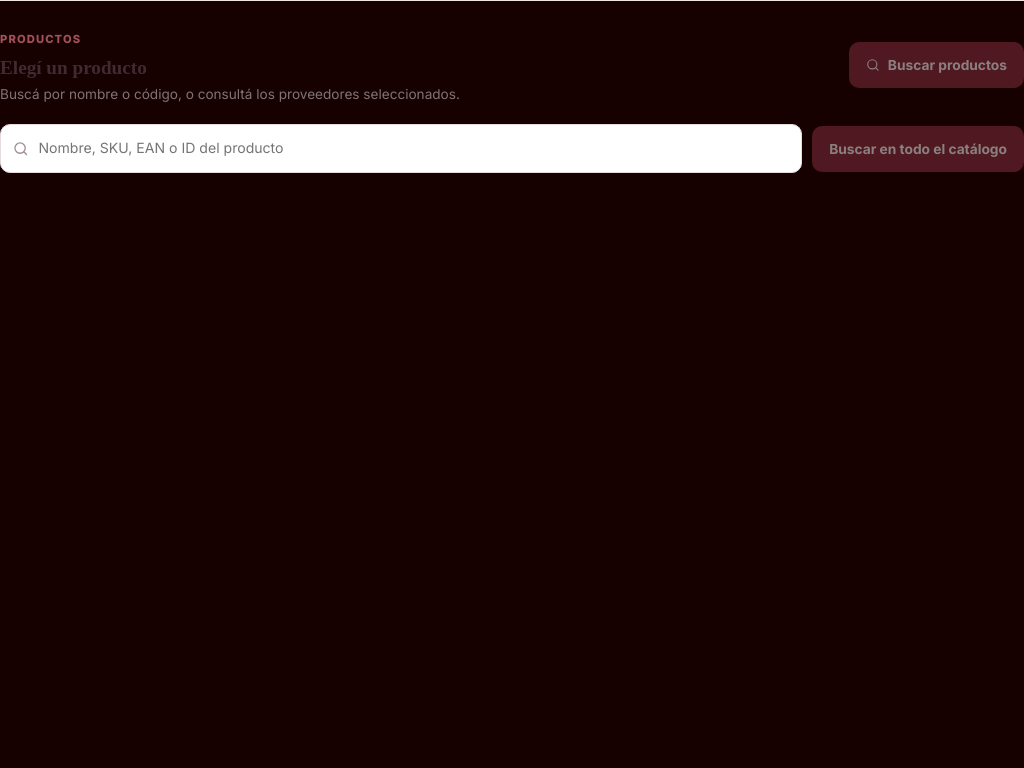
busca en el catálogo sin seleccionar proveedores y permite editar el resultado
The width and height of the screenshot is (1024, 768).
Type "EAN123" into the search field named "Buscar en todo el catálogo".
click(414, 149); type("EAN123")  # box [38,125,789,172]
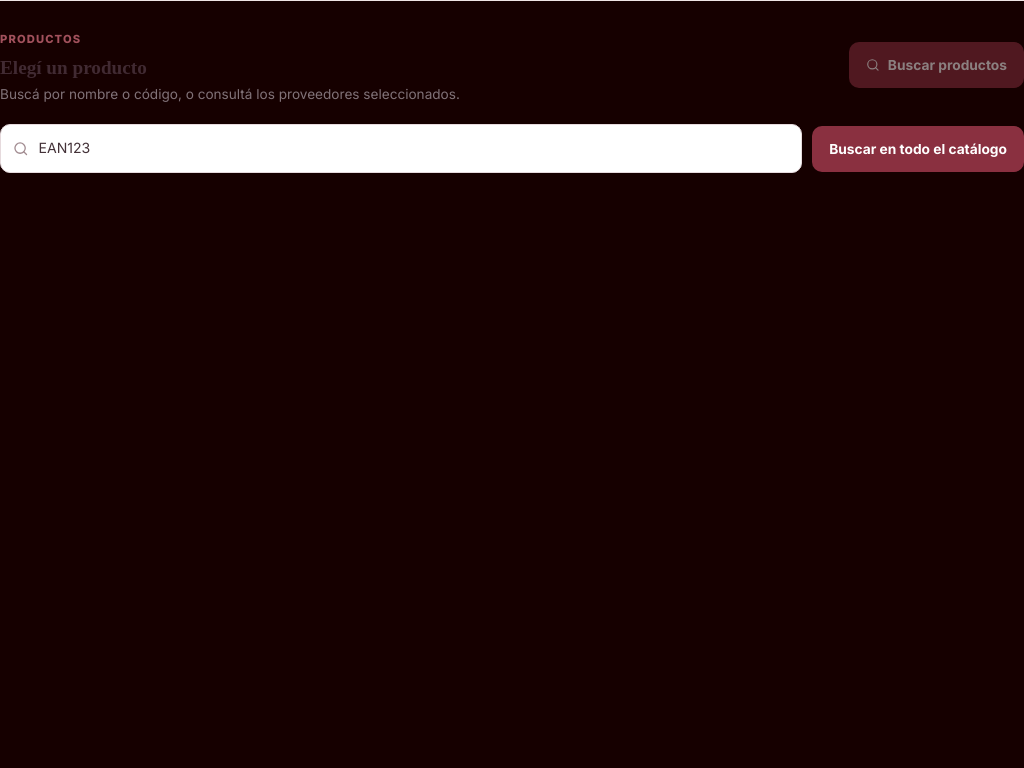
Click the button "Buscar en todo el catálogo".
click(918, 148)  # box [812,126,1023,172]
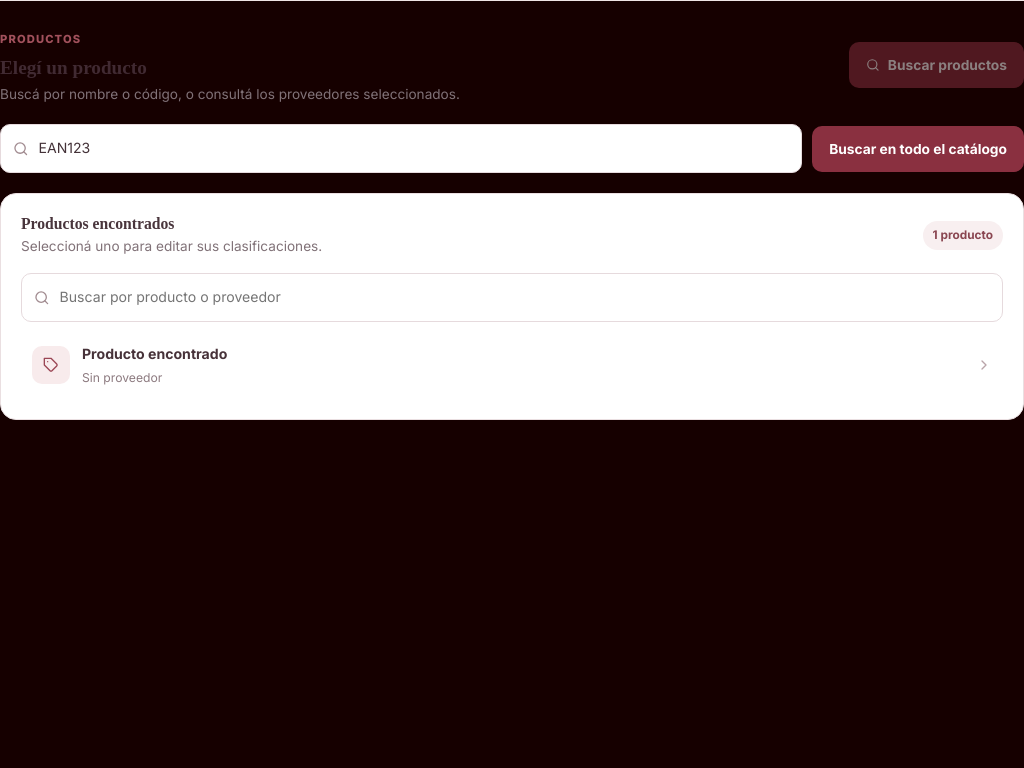
Click the button with aria-label "Producto encontrado · Sin proveedor".
click(51, 365)  # box [21,332,1003,399]
(page scrolled)
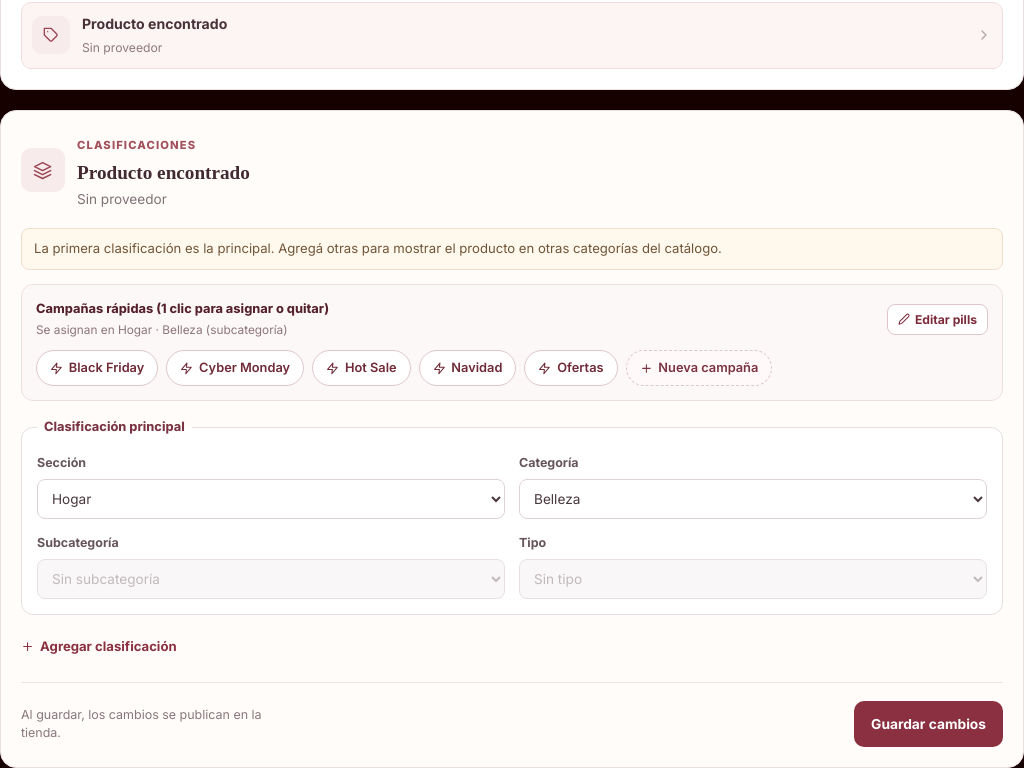
Now the button "Guardar cambios" is shown, box [854,701,1003,747]
